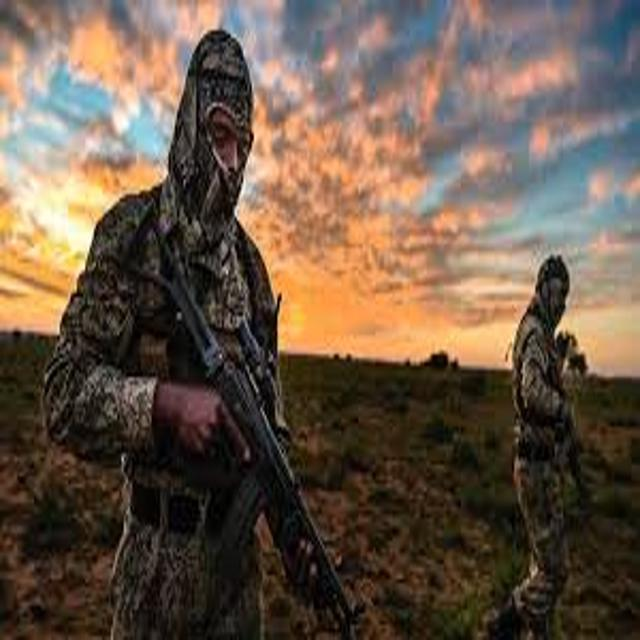gun: (83, 215, 385, 639)
ranger: (14, 20, 343, 637), (430, 224, 628, 634)
